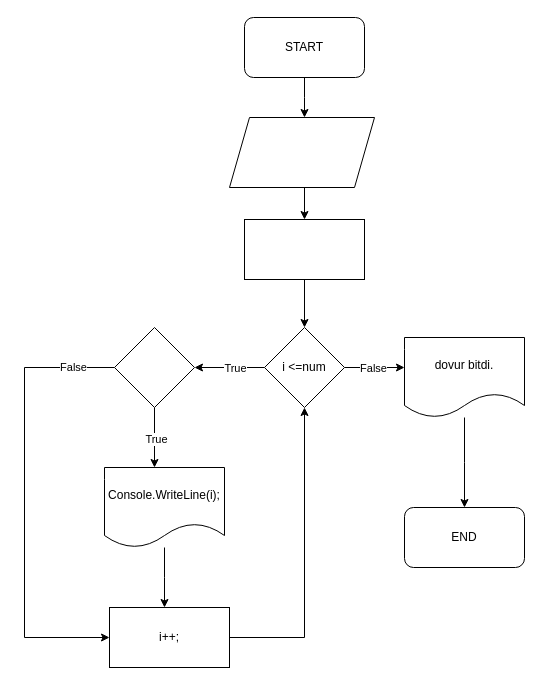
Image size: 542x685. Some labels were removed from this diagram. The shapes that lost their labels are listed below. From the top down, each one's centre as x and y in pixels, then its label:
point (301, 152): int i; int num;
point (304, 249): i=0; num=50;
point (154, 367): i%3==0
